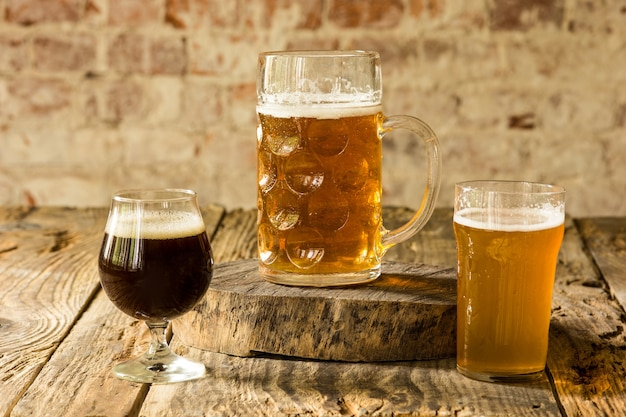alcohol: (258, 50, 440, 287), (447, 182, 573, 372), (98, 190, 216, 383)
